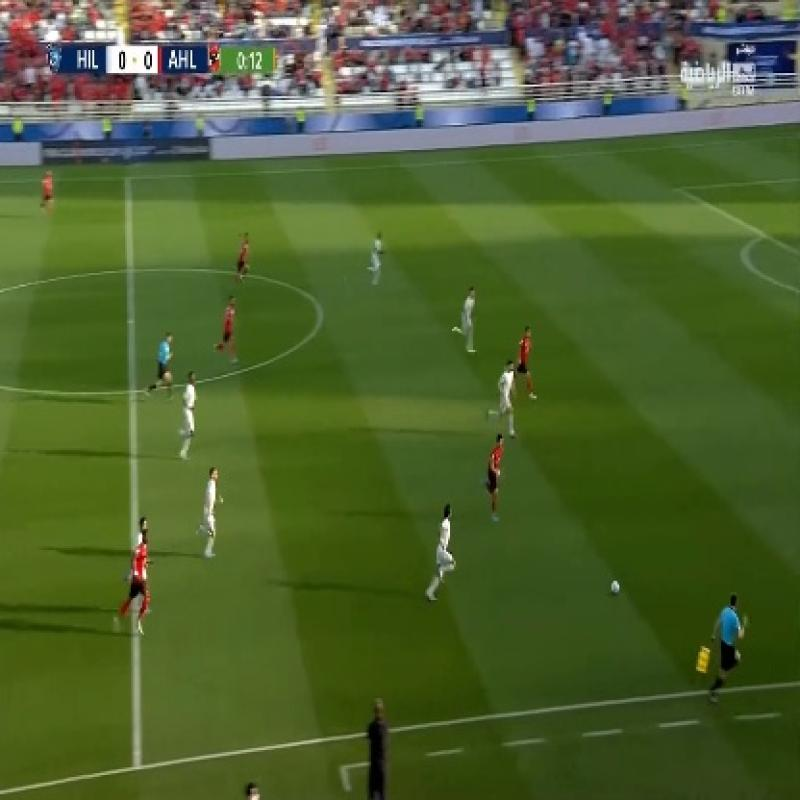10: (748, 219, 773, 248)
13: (120, 166, 138, 190)
14: (116, 254, 142, 286)
15: (119, 372, 144, 408)
16: (121, 742, 154, 781)
9: (668, 175, 689, 200)
c: (302, 298, 340, 331)
